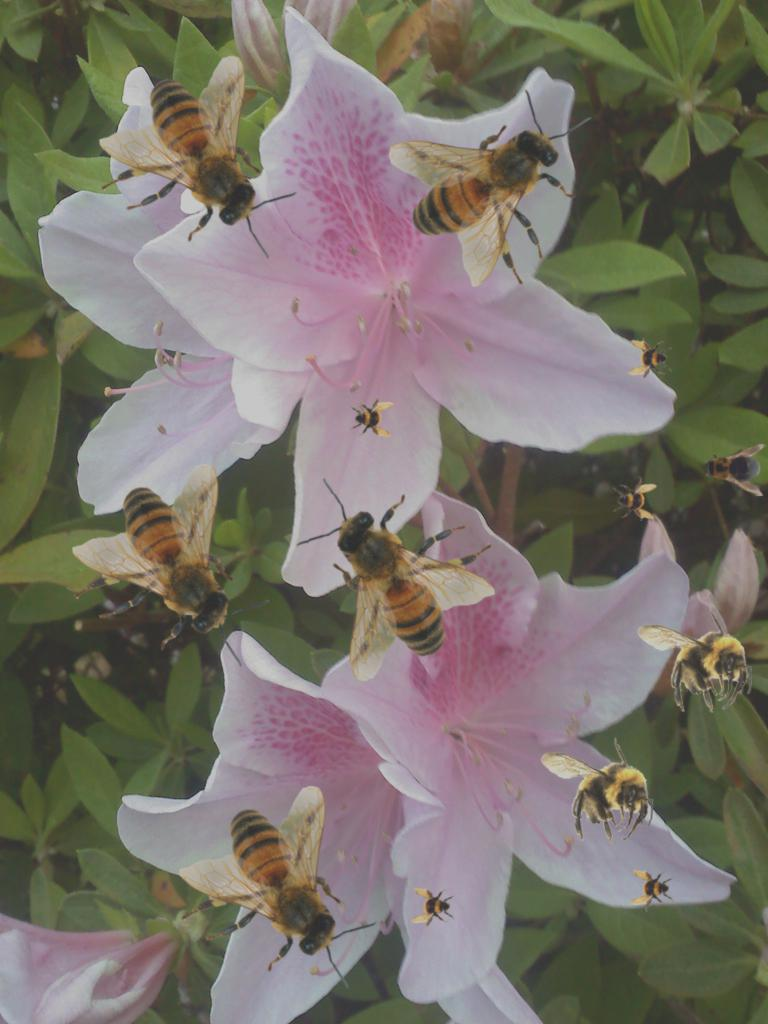Bee: (294, 475, 497, 683), (72, 463, 271, 667), (388, 88, 592, 287), (99, 55, 298, 259), (179, 785, 378, 989), (536, 733, 657, 846), (637, 606, 752, 713), (698, 444, 766, 496), (628, 338, 672, 382), (350, 395, 394, 439), (411, 886, 455, 930), (613, 477, 657, 521), (630, 868, 674, 912)
